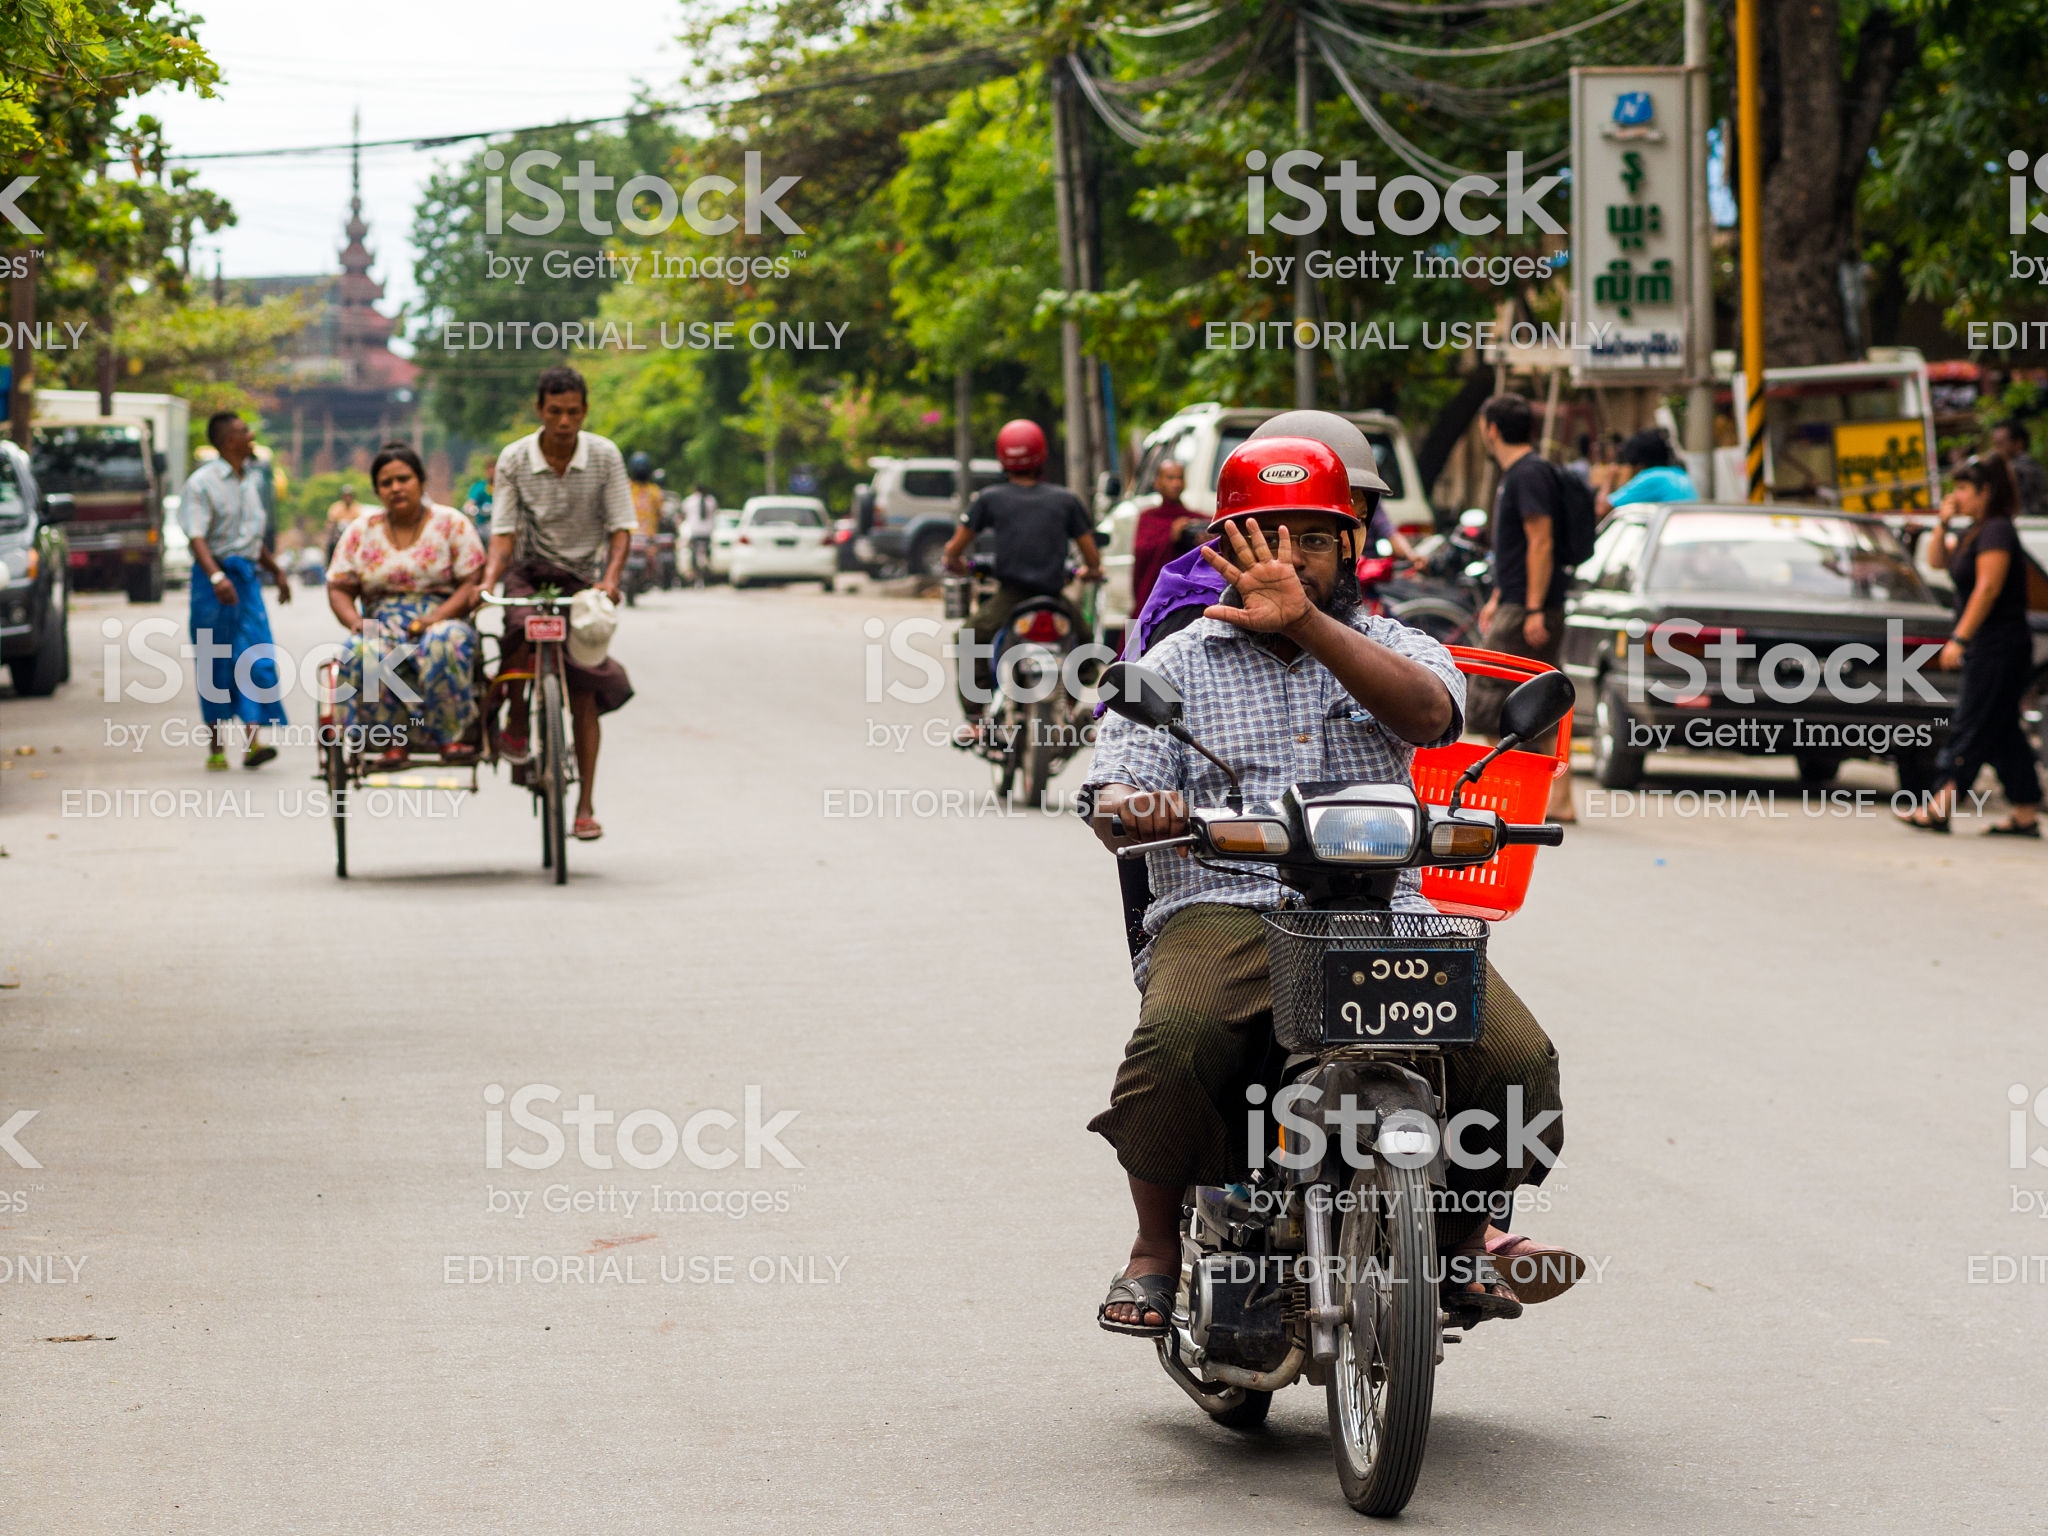helmet: (1222, 415, 1376, 547)
